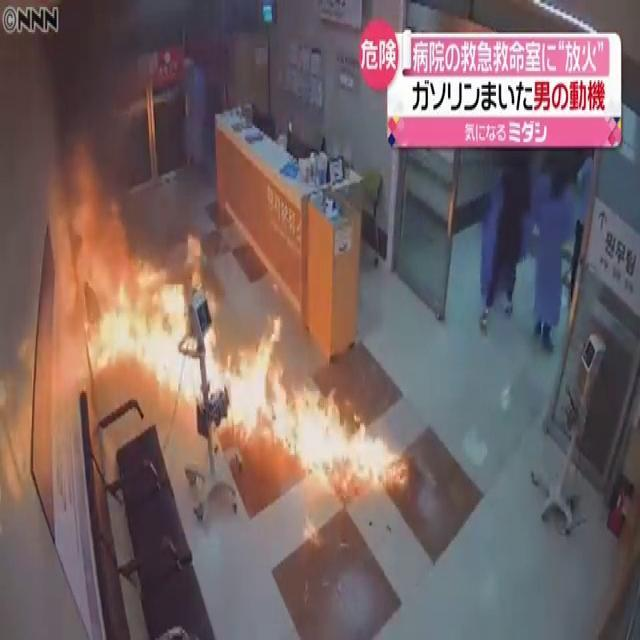Fire: (221, 319, 404, 510), (74, 237, 230, 402)
Smoke: (30, 0, 161, 244)
